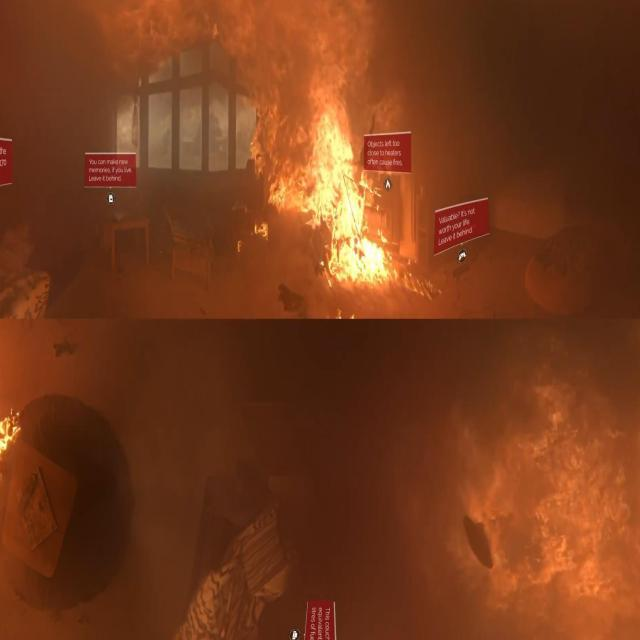smoke: (246, 86, 407, 296)
